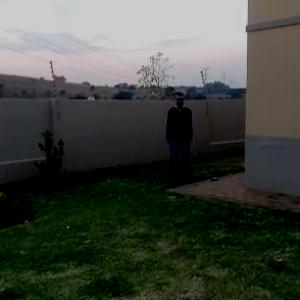follow: (161, 89, 195, 193)
